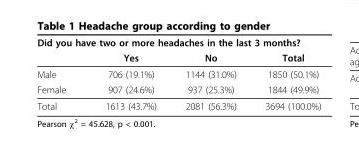table: (36, 36, 320, 111)
table column: (85, 36, 170, 111), (170, 36, 250, 111), (250, 36, 320, 111), (36, 36, 85, 111)
table column header: (36, 36, 320, 65)
table row: (36, 49, 320, 65), (36, 65, 320, 81), (36, 81, 320, 97), (36, 97, 320, 111), (36, 36, 320, 49)
table spanning cell: (36, 36, 320, 49)
